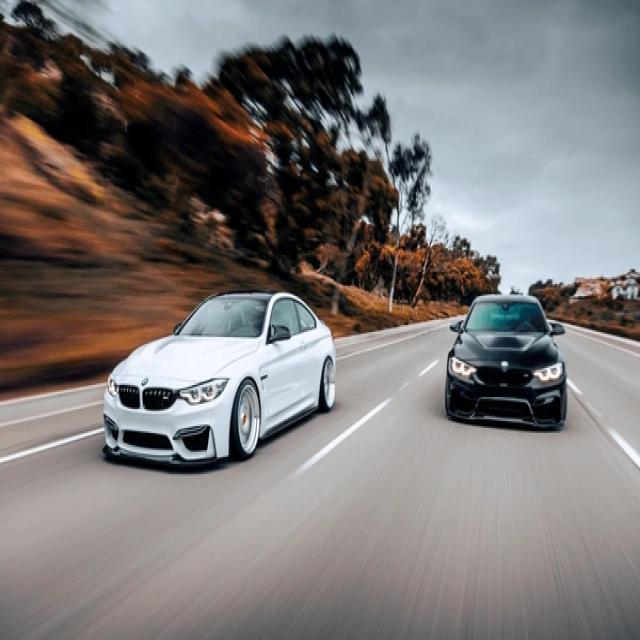bmw: (142, 376, 150, 386)
